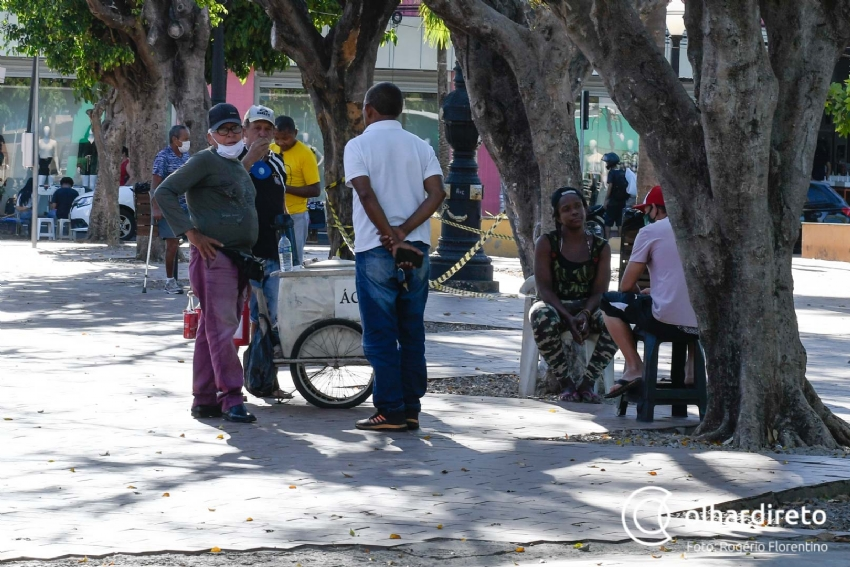mask_weared_incorrect: (206, 119, 246, 158)
